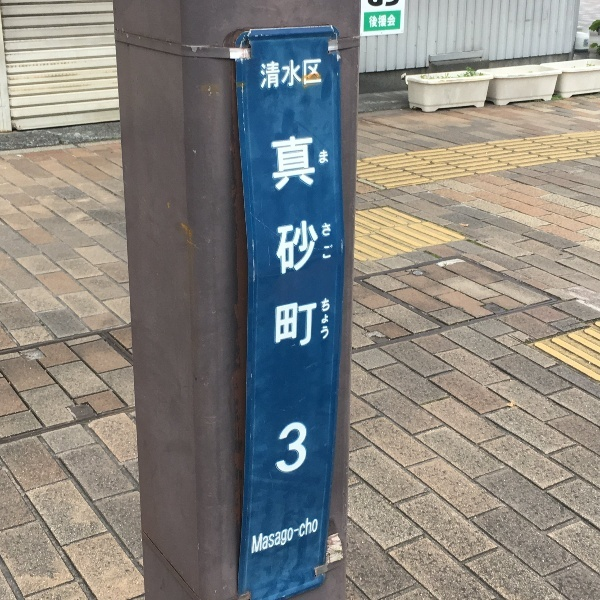text: (273, 134, 288, 476), (289, 134, 304, 476), (305, 134, 320, 476), (321, 150, 334, 340), (257, 514, 272, 558), (273, 514, 288, 558), (289, 514, 304, 558), (305, 514, 319, 558), (305, 57, 321, 90), (273, 57, 288, 90), (289, 57, 304, 90), (260, 57, 272, 90), (370, 14, 384, 28), (319, 150, 320, 340), (252, 514, 256, 558), (385, 14, 396, 28), (369, 1, 384, 7), (385, 1, 399, 7)
